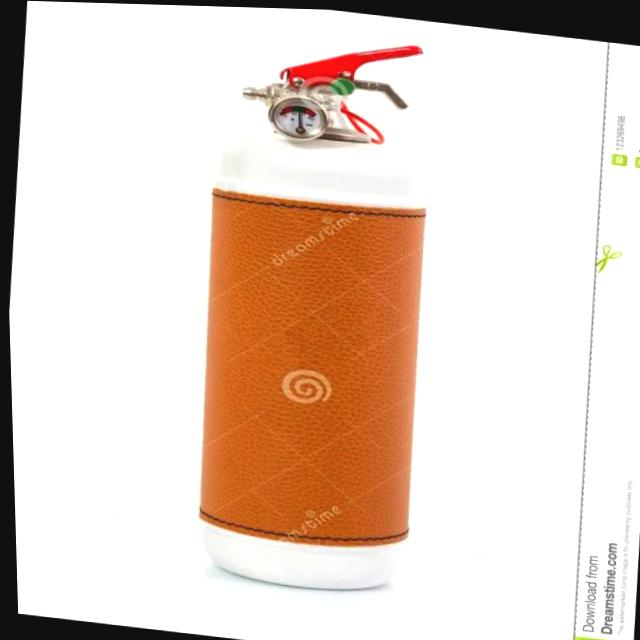FireExtinguisher: (165, 15, 461, 608)
